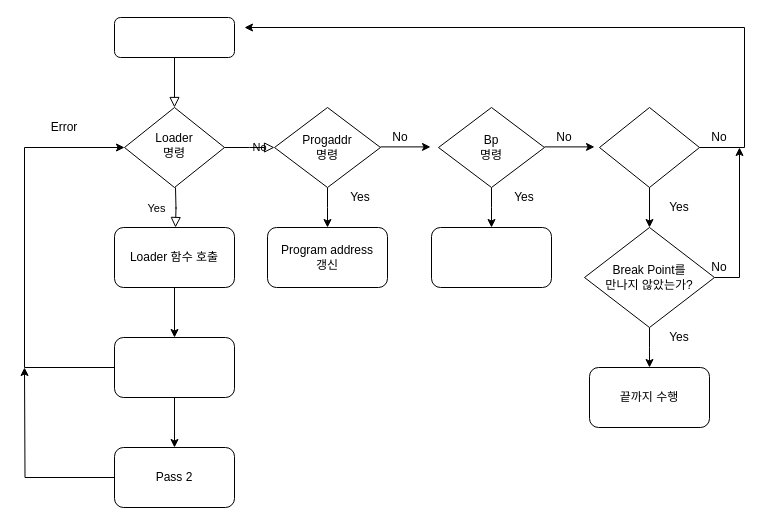
Image size: 770x525. Some labels were removed from this diagram. Each missing label, with the box of its shape:
Bp 관련 명령 수행: (430, 226, 552, 288)
Main함수: (114, 16, 234, 58)
Pass 1: (114, 336, 234, 398)
Run 명령: (598, 106, 700, 188)
